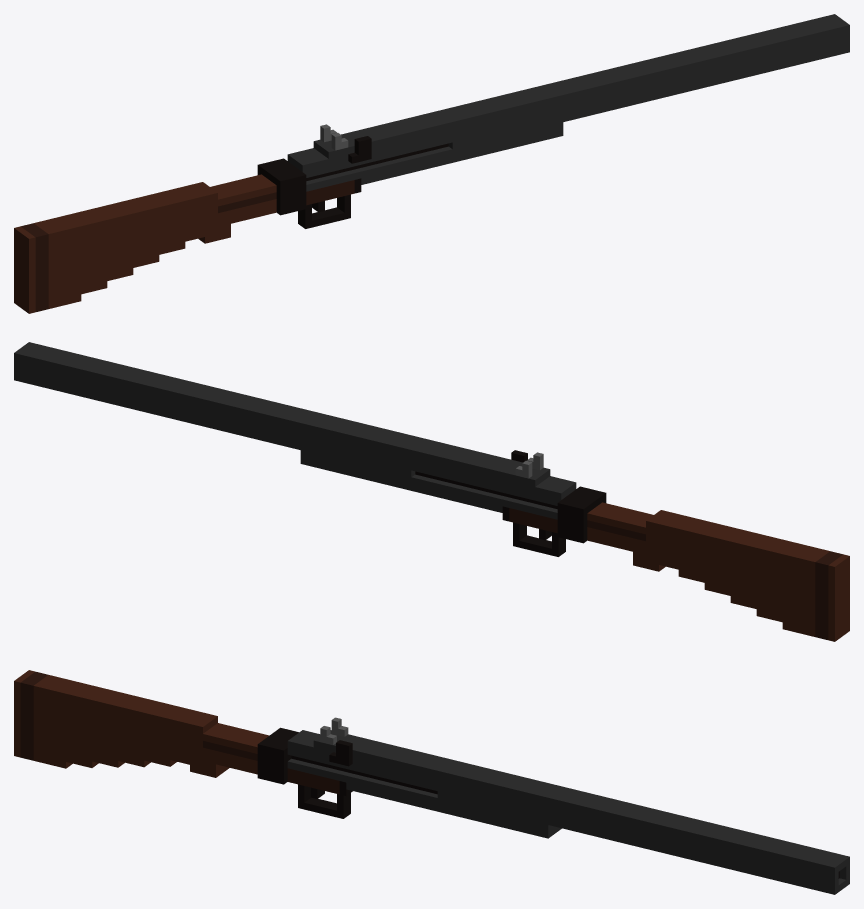
The model's file is long_gun.obj.
3 views of the same model, one above another, from view 1: azimuth 30°, elevation 25°; view 2: azimuth 150°, elevation 25°; view 3: azimuth 330°, elevation 25° (orthographic).
Bounding box in the file's own units: 12.6 × 1.5 × 0.6.
